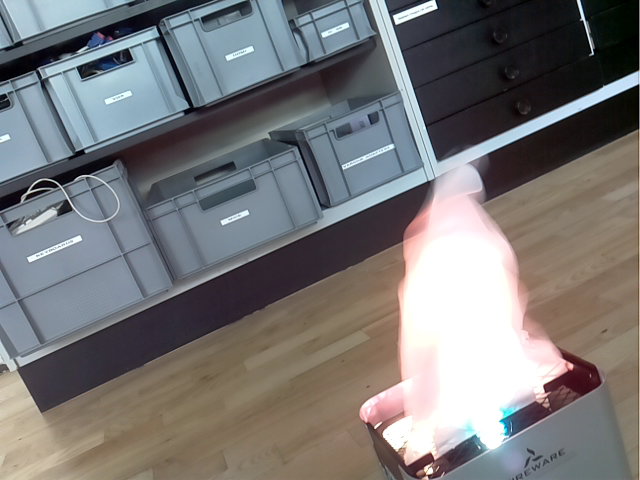fire: (396, 162, 568, 465)
